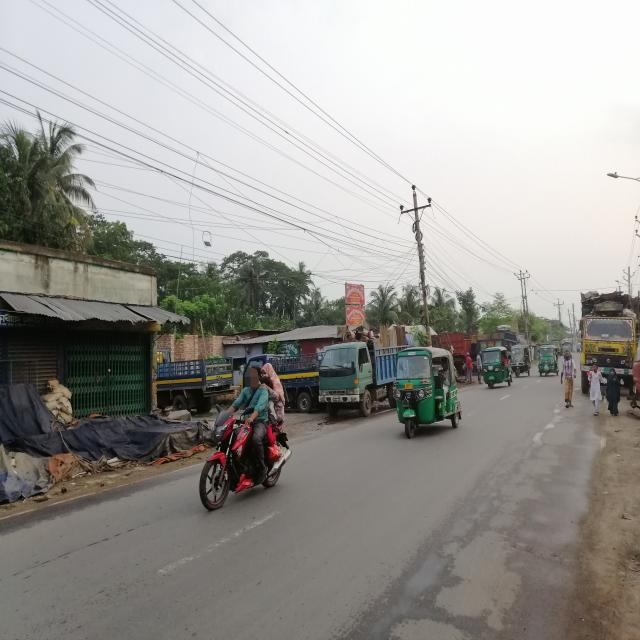CNG: (388, 347, 461, 441)
Motorbike: (187, 398, 296, 514)
